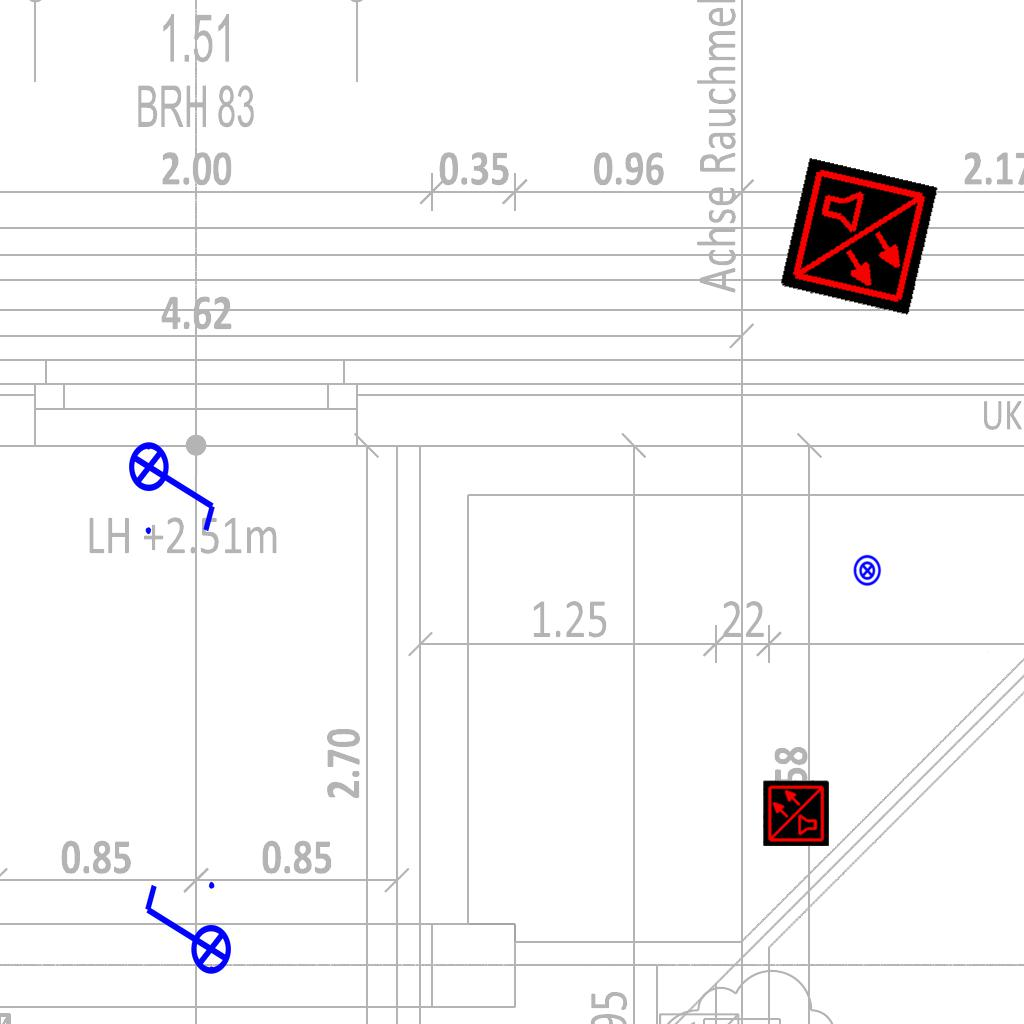Ausschalter_beleuchtet: (137, 876, 233, 988), (127, 428, 223, 540)
OKW_Multisensormelder_(Kombination_optischer_Rauch-Kahlenmonoxid_Waerme-Melder): (779, 157, 939, 317), (763, 780, 829, 846)
Taster_beleuchtet: (851, 554, 884, 587)
